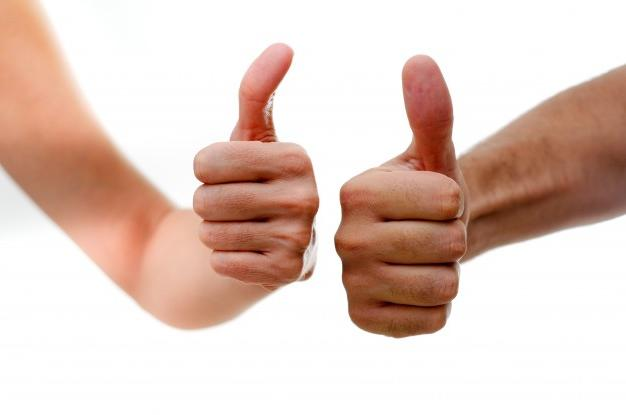thumbsup: (334, 54, 469, 339), (193, 41, 320, 285)
